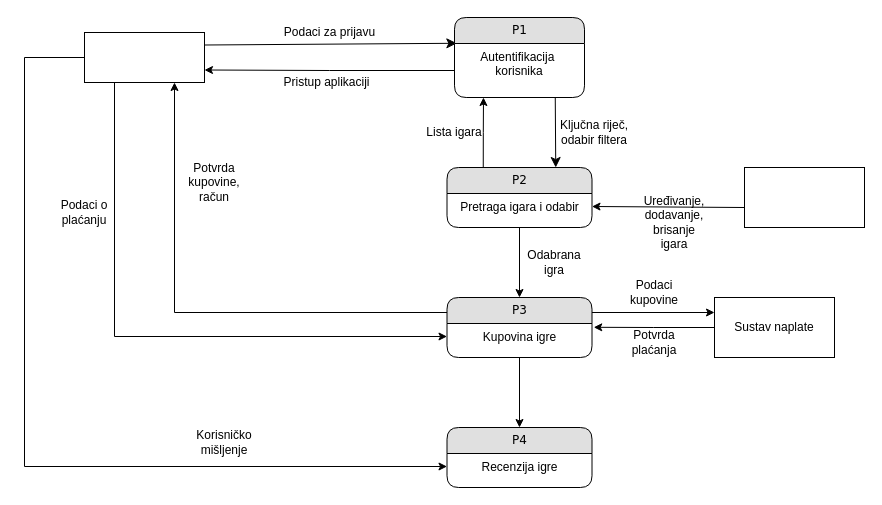
This 882x505 diagram has some shape labels left out. The centre of each missing label's shape, as x and y in pixels:
Administrator: (x=804, y=197)
Korisnik: (x=144, y=57)
